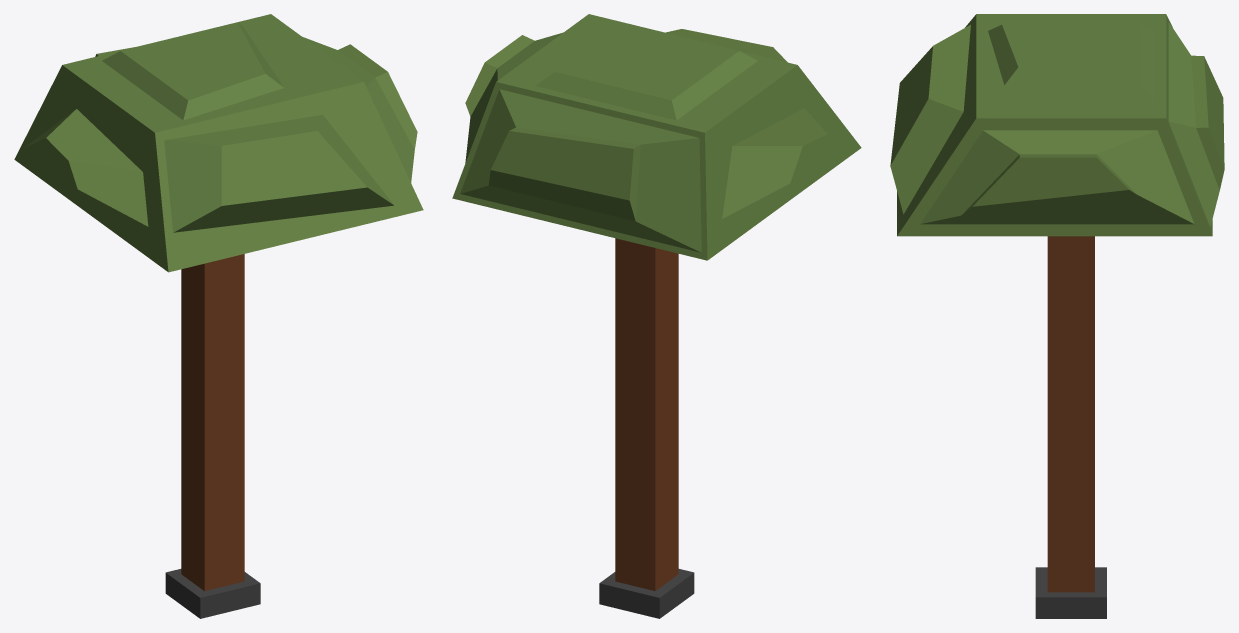
The model's file is Tree03_High.fbx.
3 views of the same model, side by side, from view 1: azimuth 30°, elevation 25°; view 2: azimuth 150°, elevation 25°; view 3: azimuth 270°, elevation 25° (orthographic). The views are drawn at different scales.
Visible parts, largest first — view 1: Tree03_High; view 2: Tree03_High; view 3: Tree03_High.
Part boxes in pixels (bbox=[...]): Tree03_High: bbox=[14, 14, 423, 618]; Tree03_High: bbox=[452, 14, 861, 618]; Tree03_High: bbox=[890, 14, 1224, 618].
Size of the model in its own units: 322 by 511 by 282.
